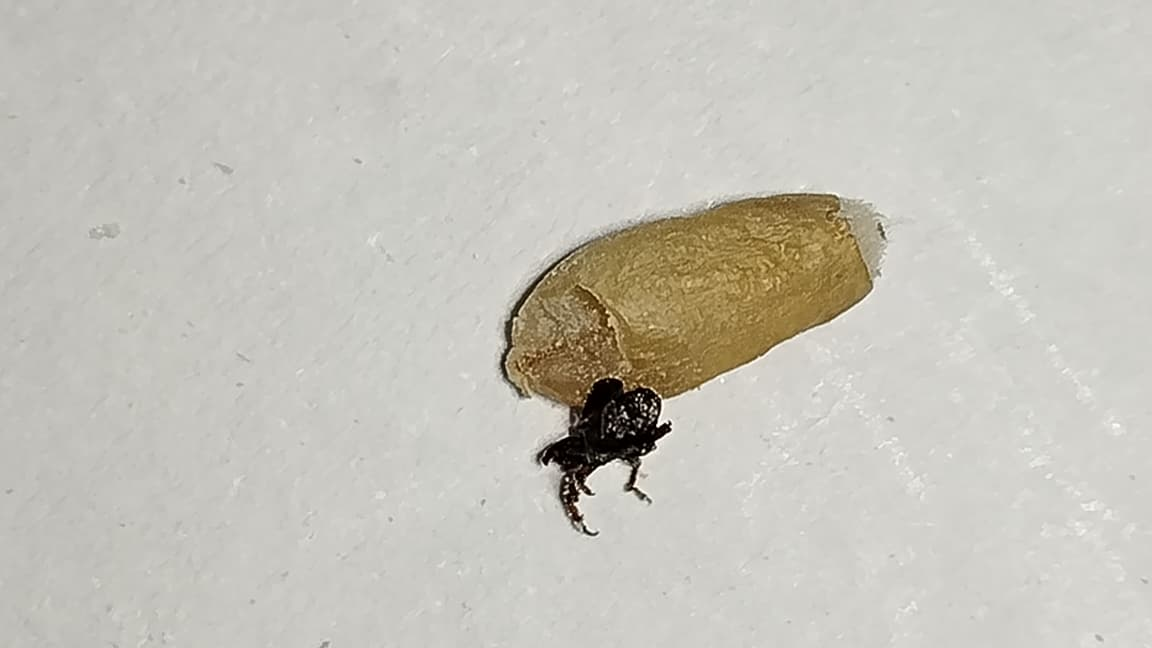damage: (501, 193, 887, 407)
insectdamage: (483, 277, 688, 388), (534, 375, 669, 536)
